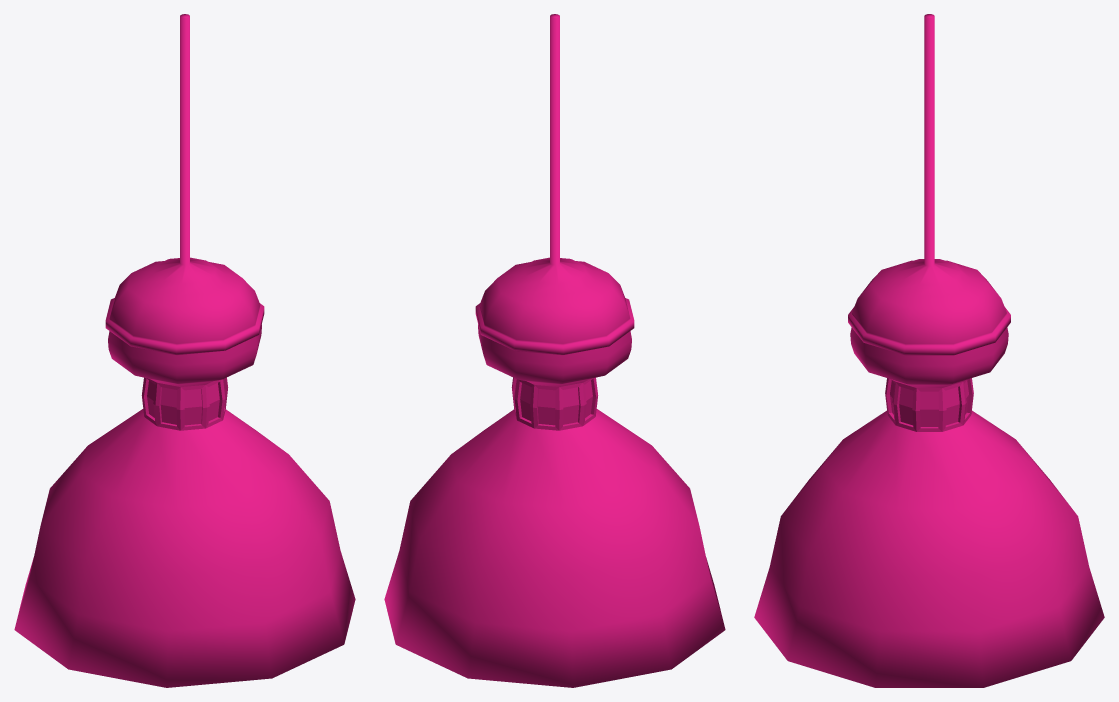
The model's file is lampje.fbx.
3 views of the same model, side by side, from view 1: azimuth 30°, elevation 25°; view 2: azimuth 150°, elevation 25°; view 3: azimuth 270°, elevation 25° (orthographic).
Parts seen in each view (by area): view 1: Cylinder; view 2: Cylinder; view 3: Cylinder.
Boxes of the visible parts, left/top/right/bottom form: Cylinder: left=14, top=14, right=355, bottom=687; Cylinder: left=384, top=14, right=725, bottom=687; Cylinder: left=754, top=14, right=1104, bottom=687.
Size of the model in its own units: 15.22 by 30.3 by 16.01.
